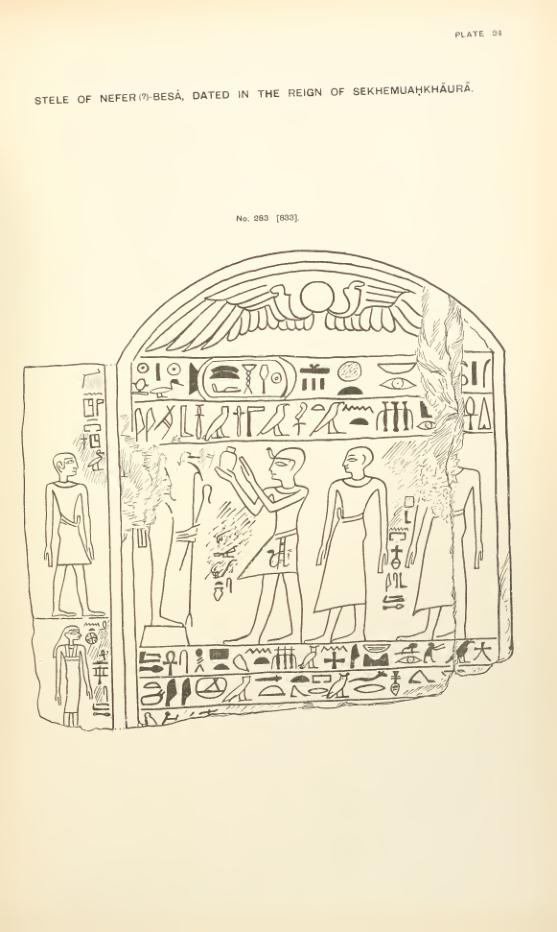circle: (184, 355, 301, 406)
